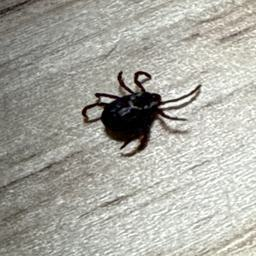Dermacentor variabilis: (81, 67, 203, 158)
